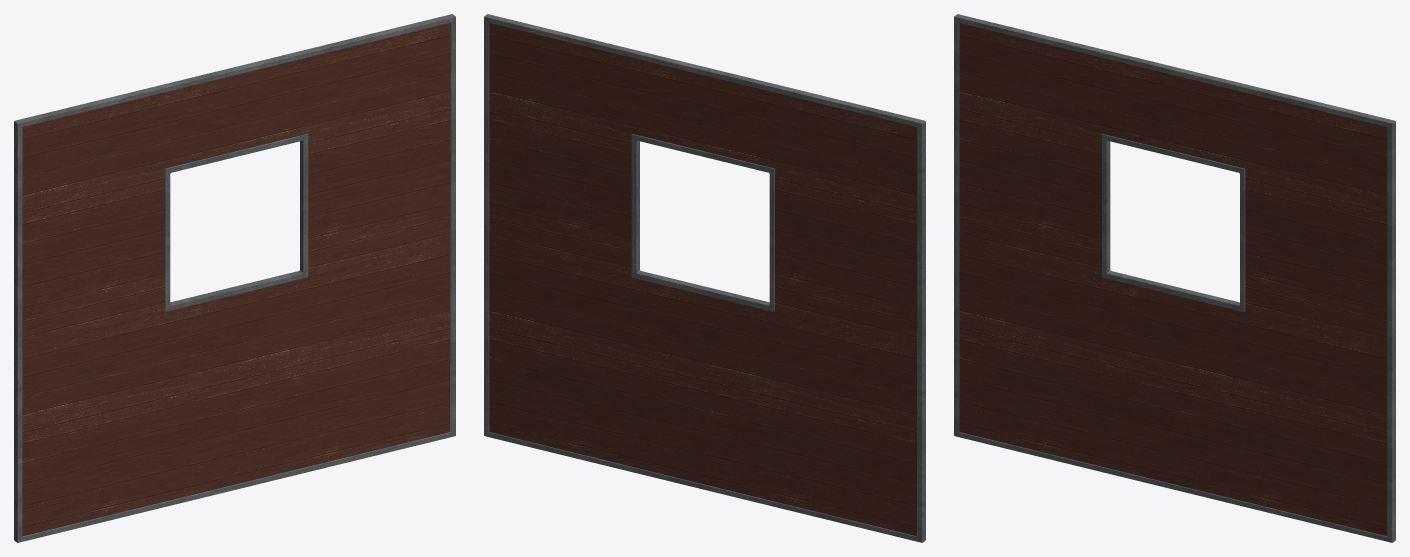
The model's file is Pen_01_Wall_Window_Alt.fbx.
3 views of the same model, side by side, from view 1: azimuth 30°, elevation 25°; view 2: azimuth 150°, elevation 25°; view 3: azimuth 330°, elevation 25° (orthographic).
Visible parts, largest first — view 1: Pen_01_Wall_Window_Alt; view 2: Pen_01_Wall_Window_Alt; view 3: Pen_01_Wall_Window_Alt.
Boxes of the visible parts, x1,y1,x2,y2 form: Pen_01_Wall_Window_Alt: (14, 14, 455, 542); Pen_01_Wall_Window_Alt: (484, 14, 925, 542); Pen_01_Wall_Window_Alt: (954, 14, 1395, 542).
Bounding box in the file's own units: 350 × 320 × 5.
